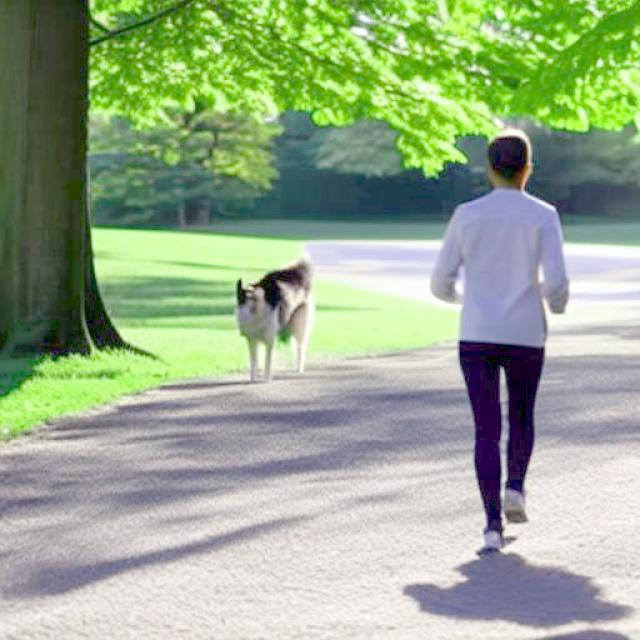Unleashed_Dog: (235, 258, 537, 384)
